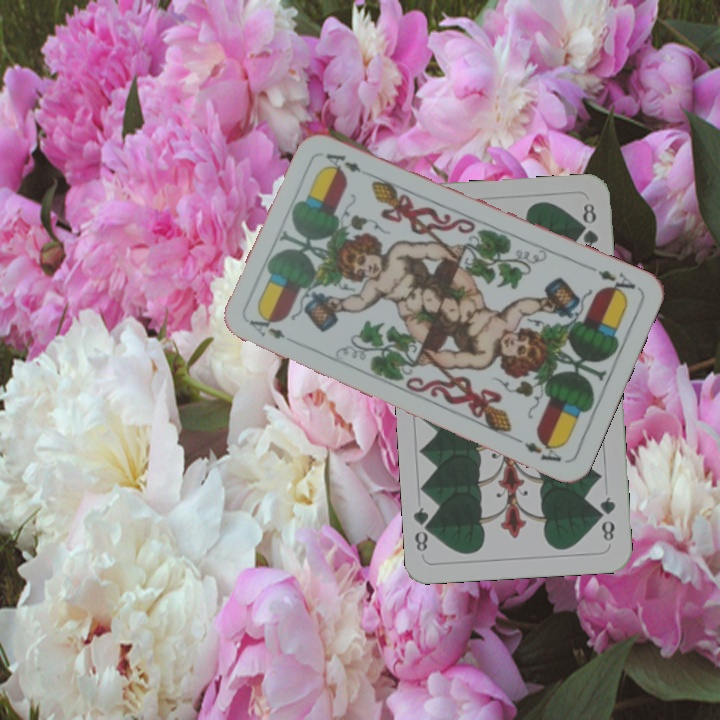EA: (584, 262, 638, 299), (244, 314, 288, 342)
G8: (595, 493, 618, 544)
